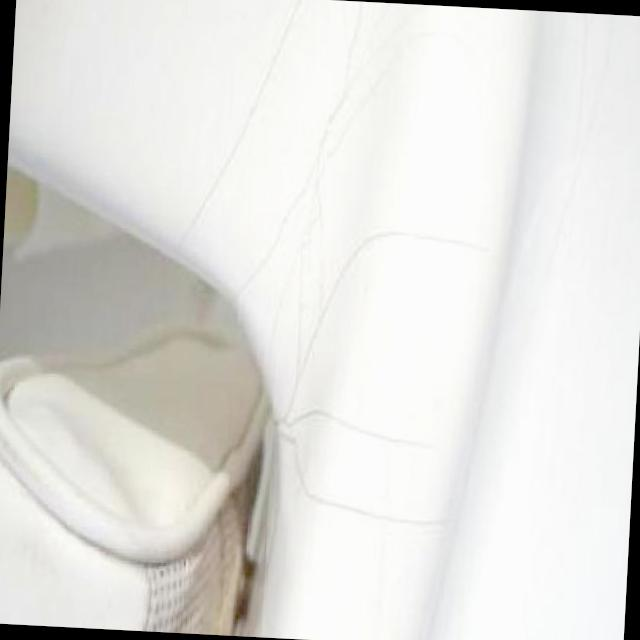crack: (300, 468, 406, 548), (352, 214, 466, 254), (336, 417, 424, 458)
